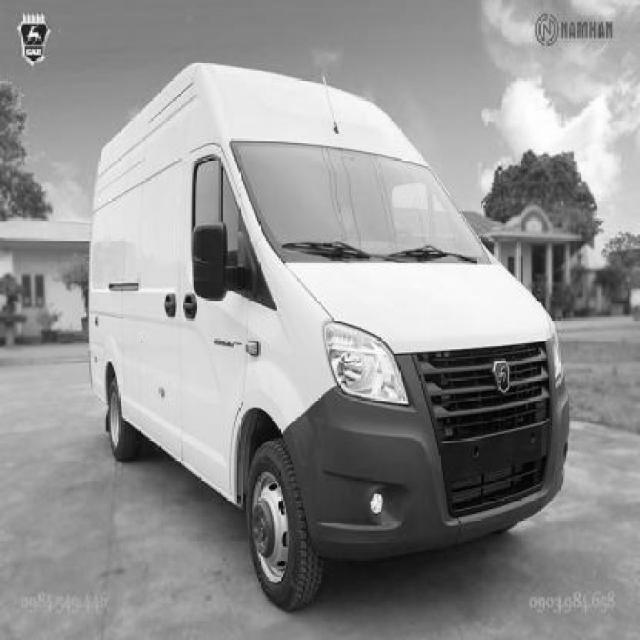Van: (84, 61, 571, 616)
